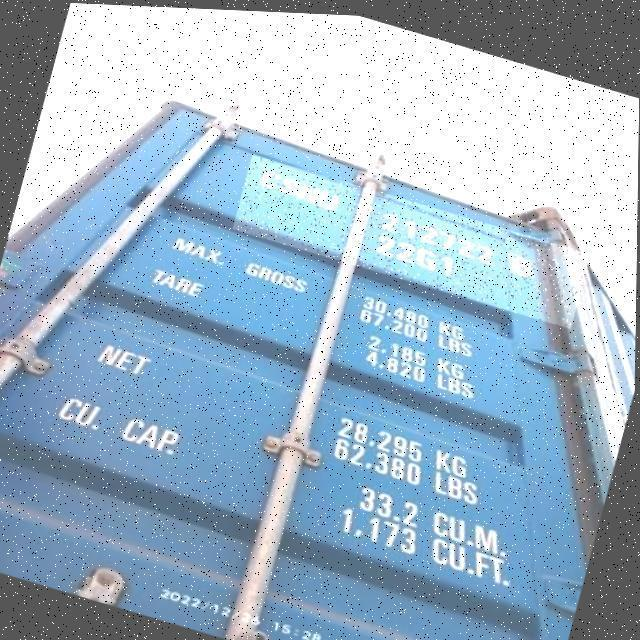container_number_h: (231, 152, 591, 324)
